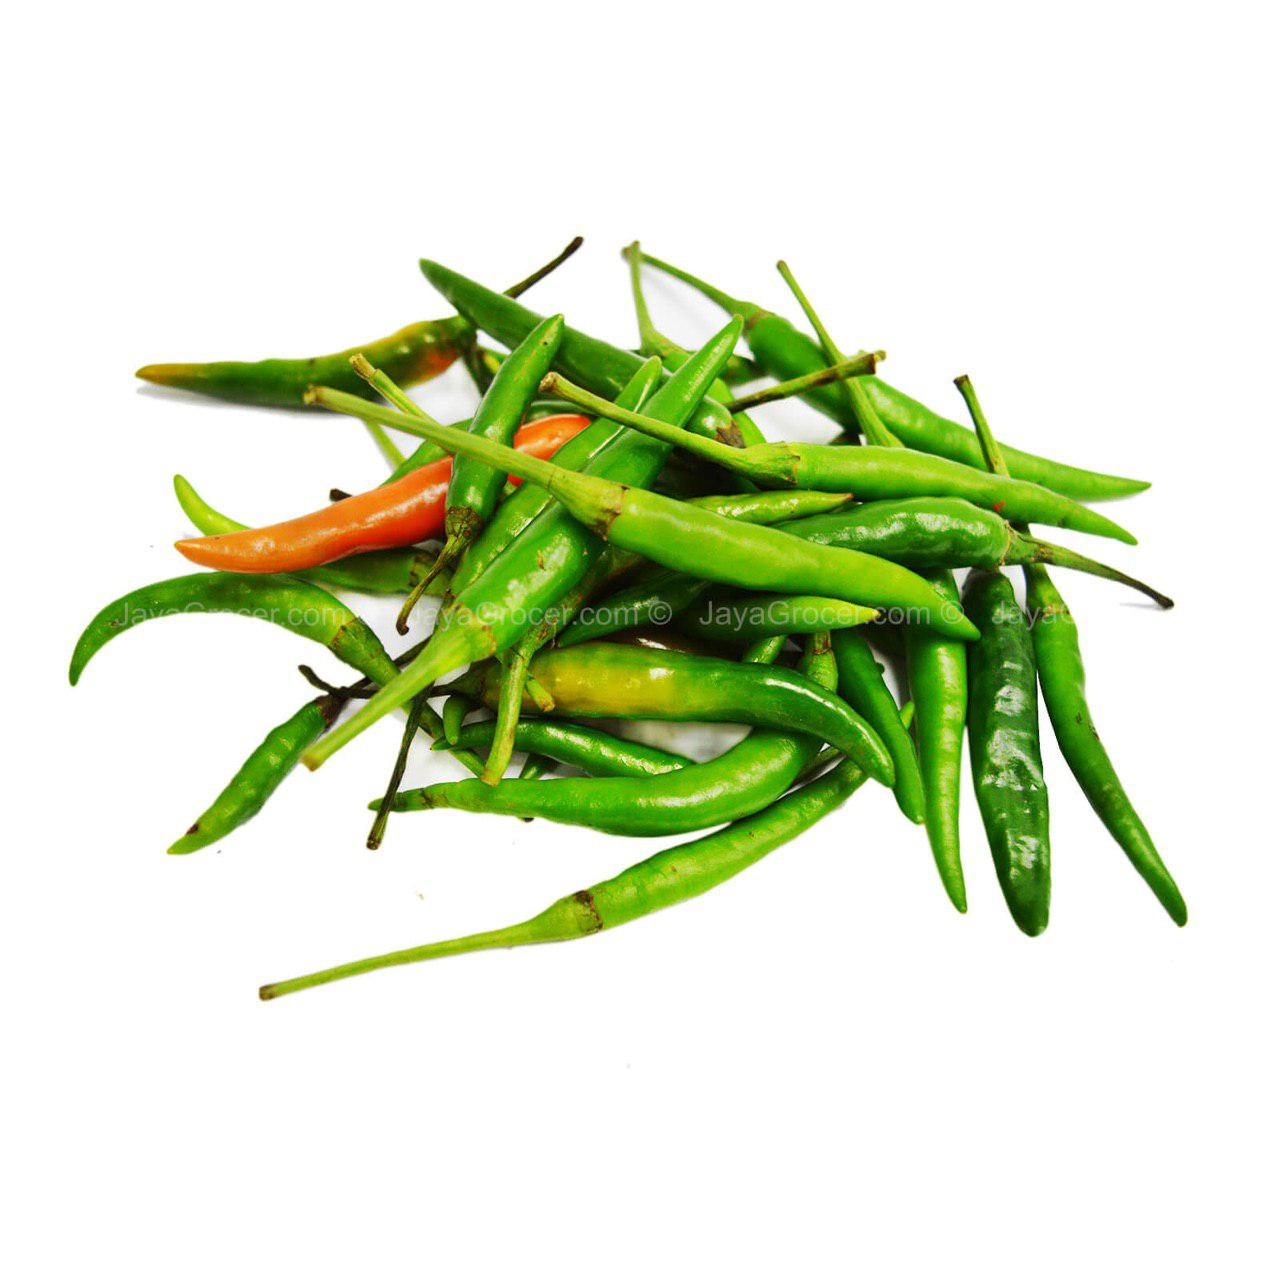lada hijau: (468, 329, 758, 631), (554, 472, 980, 655), (550, 763, 886, 953), (537, 633, 905, 799), (401, 708, 817, 855), (425, 248, 721, 443), (1033, 608, 1203, 942), (731, 408, 1133, 543), (129, 292, 470, 423), (954, 580, 1070, 953), (25, 570, 380, 685), (152, 690, 339, 870), (903, 617, 998, 921)
lada kuning: (168, 447, 458, 600)
